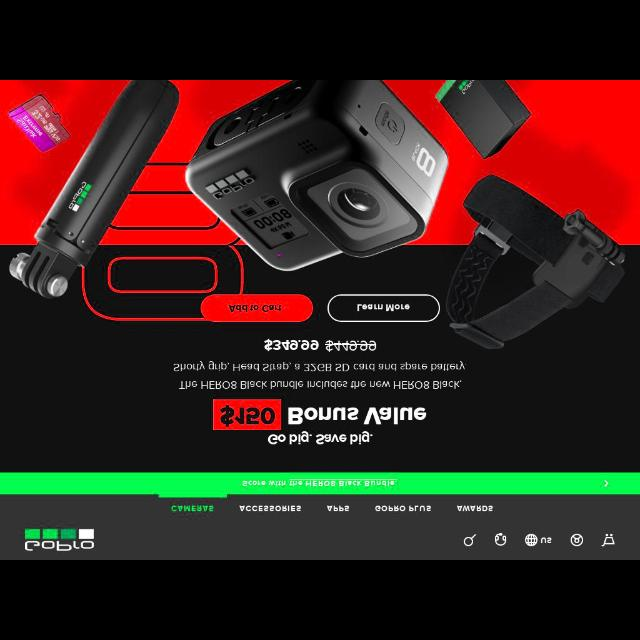backgroundimage: (2, 82, 638, 472)
icon: (492, 532, 510, 548), (464, 530, 478, 548), (570, 532, 584, 546), (603, 532, 617, 546), (522, 534, 538, 546), (601, 478, 609, 488)
iframe: (3, 472, 639, 496)
image: (21, 525, 99, 555)
link: (288, 479, 398, 487)
text: (172, 358, 468, 390), (284, 404, 428, 426), (262, 335, 378, 351), (267, 430, 373, 446), (218, 406, 280, 426), (238, 502, 300, 514), (372, 502, 432, 514), (355, 302, 413, 314), (172, 502, 214, 516), (228, 303, 284, 313), (455, 502, 495, 512), (243, 478, 287, 486), (324, 502, 351, 514), (542, 536, 552, 544)
textbutton: (199, 293, 317, 327), (325, 296, 441, 322)
toolbar: (1, 497, 639, 557)
